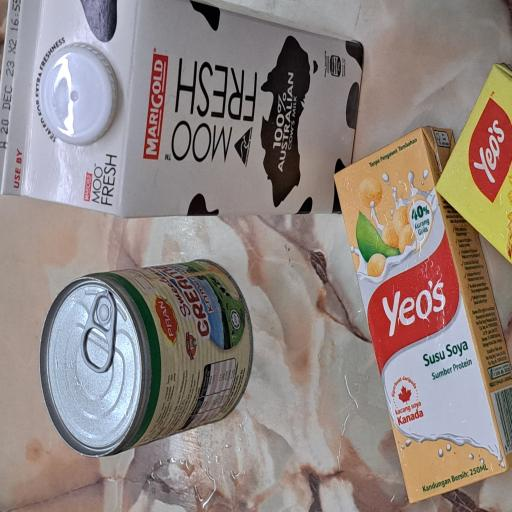can: (42, 54, 190, 339)
drink carton: (220, 0, 384, 488), (6, 443, 290, 512)
plastic bottle cap: (276, 57, 352, 161)
pop tab: (105, 104, 168, 158)
